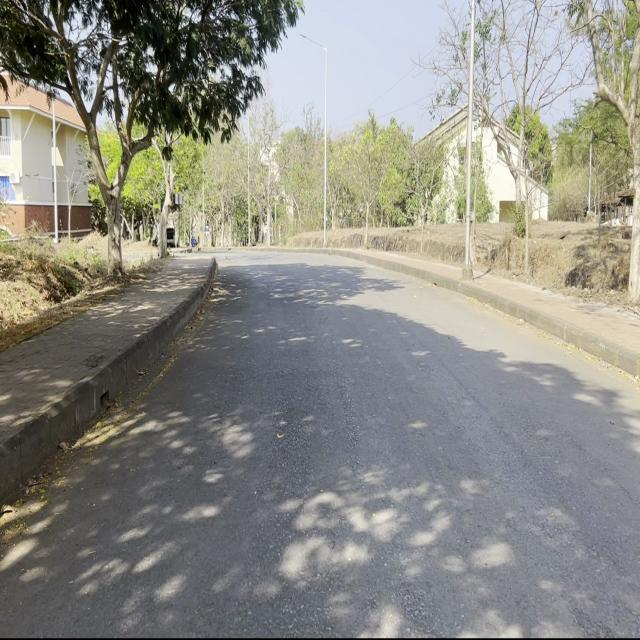Road: (5, 252, 637, 632)
